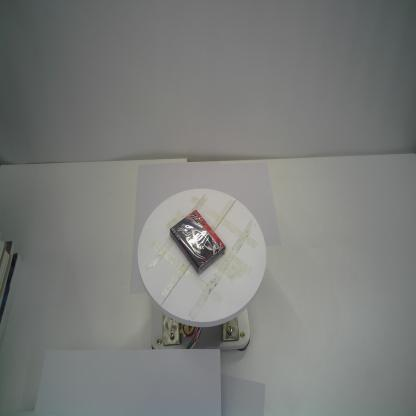Gum: (169, 209, 226, 276)
